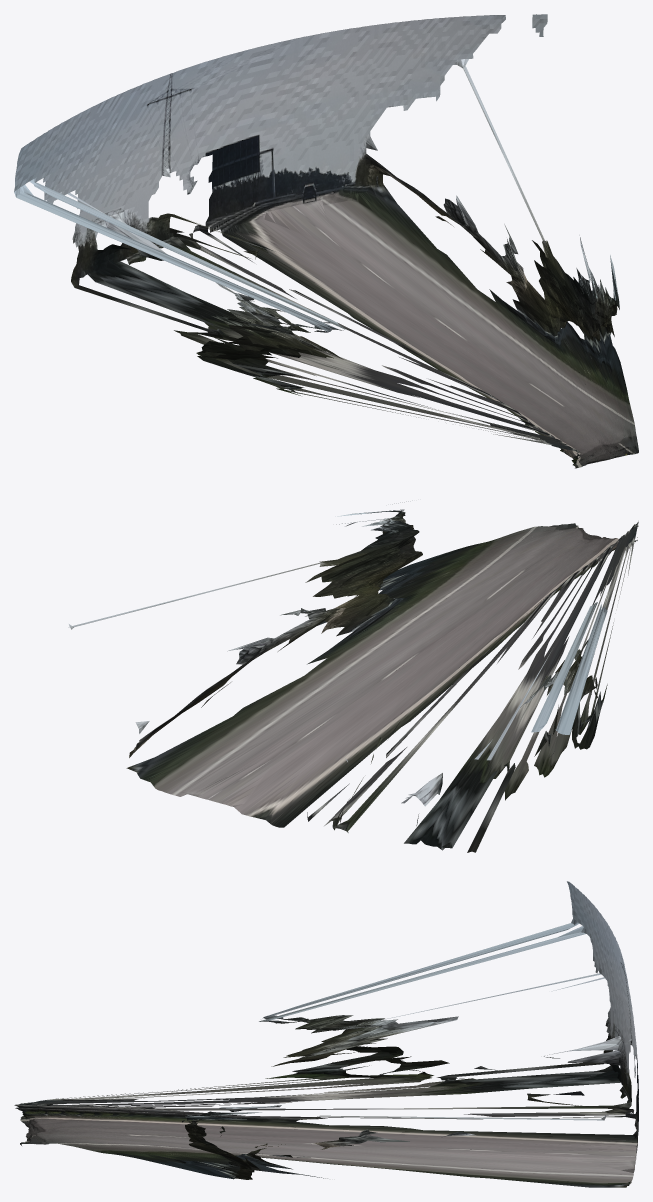
The picture shows the model from 3 angles, top to bottom: view 1: azimuth 30°, elevation 25°; view 2: azimuth 150°, elevation 25°; view 3: azimuth 270°, elevation 25°; orthographic projection. The views are drawn at different scales.
Visible parts, largest first — view 1: defaultobject; view 2: defaultobject; view 3: defaultobject.
Part boxes in pixels (box(x1,y1,x2,y2)): defaultobject: box(14, 14, 638, 468); defaultobject: box(68, 500, 638, 852); defaultobject: box(14, 881, 638, 1187).
Bounding box in the file's own units: 39.25 × 12.97 × 45.09.
1 material, 1 textured.
